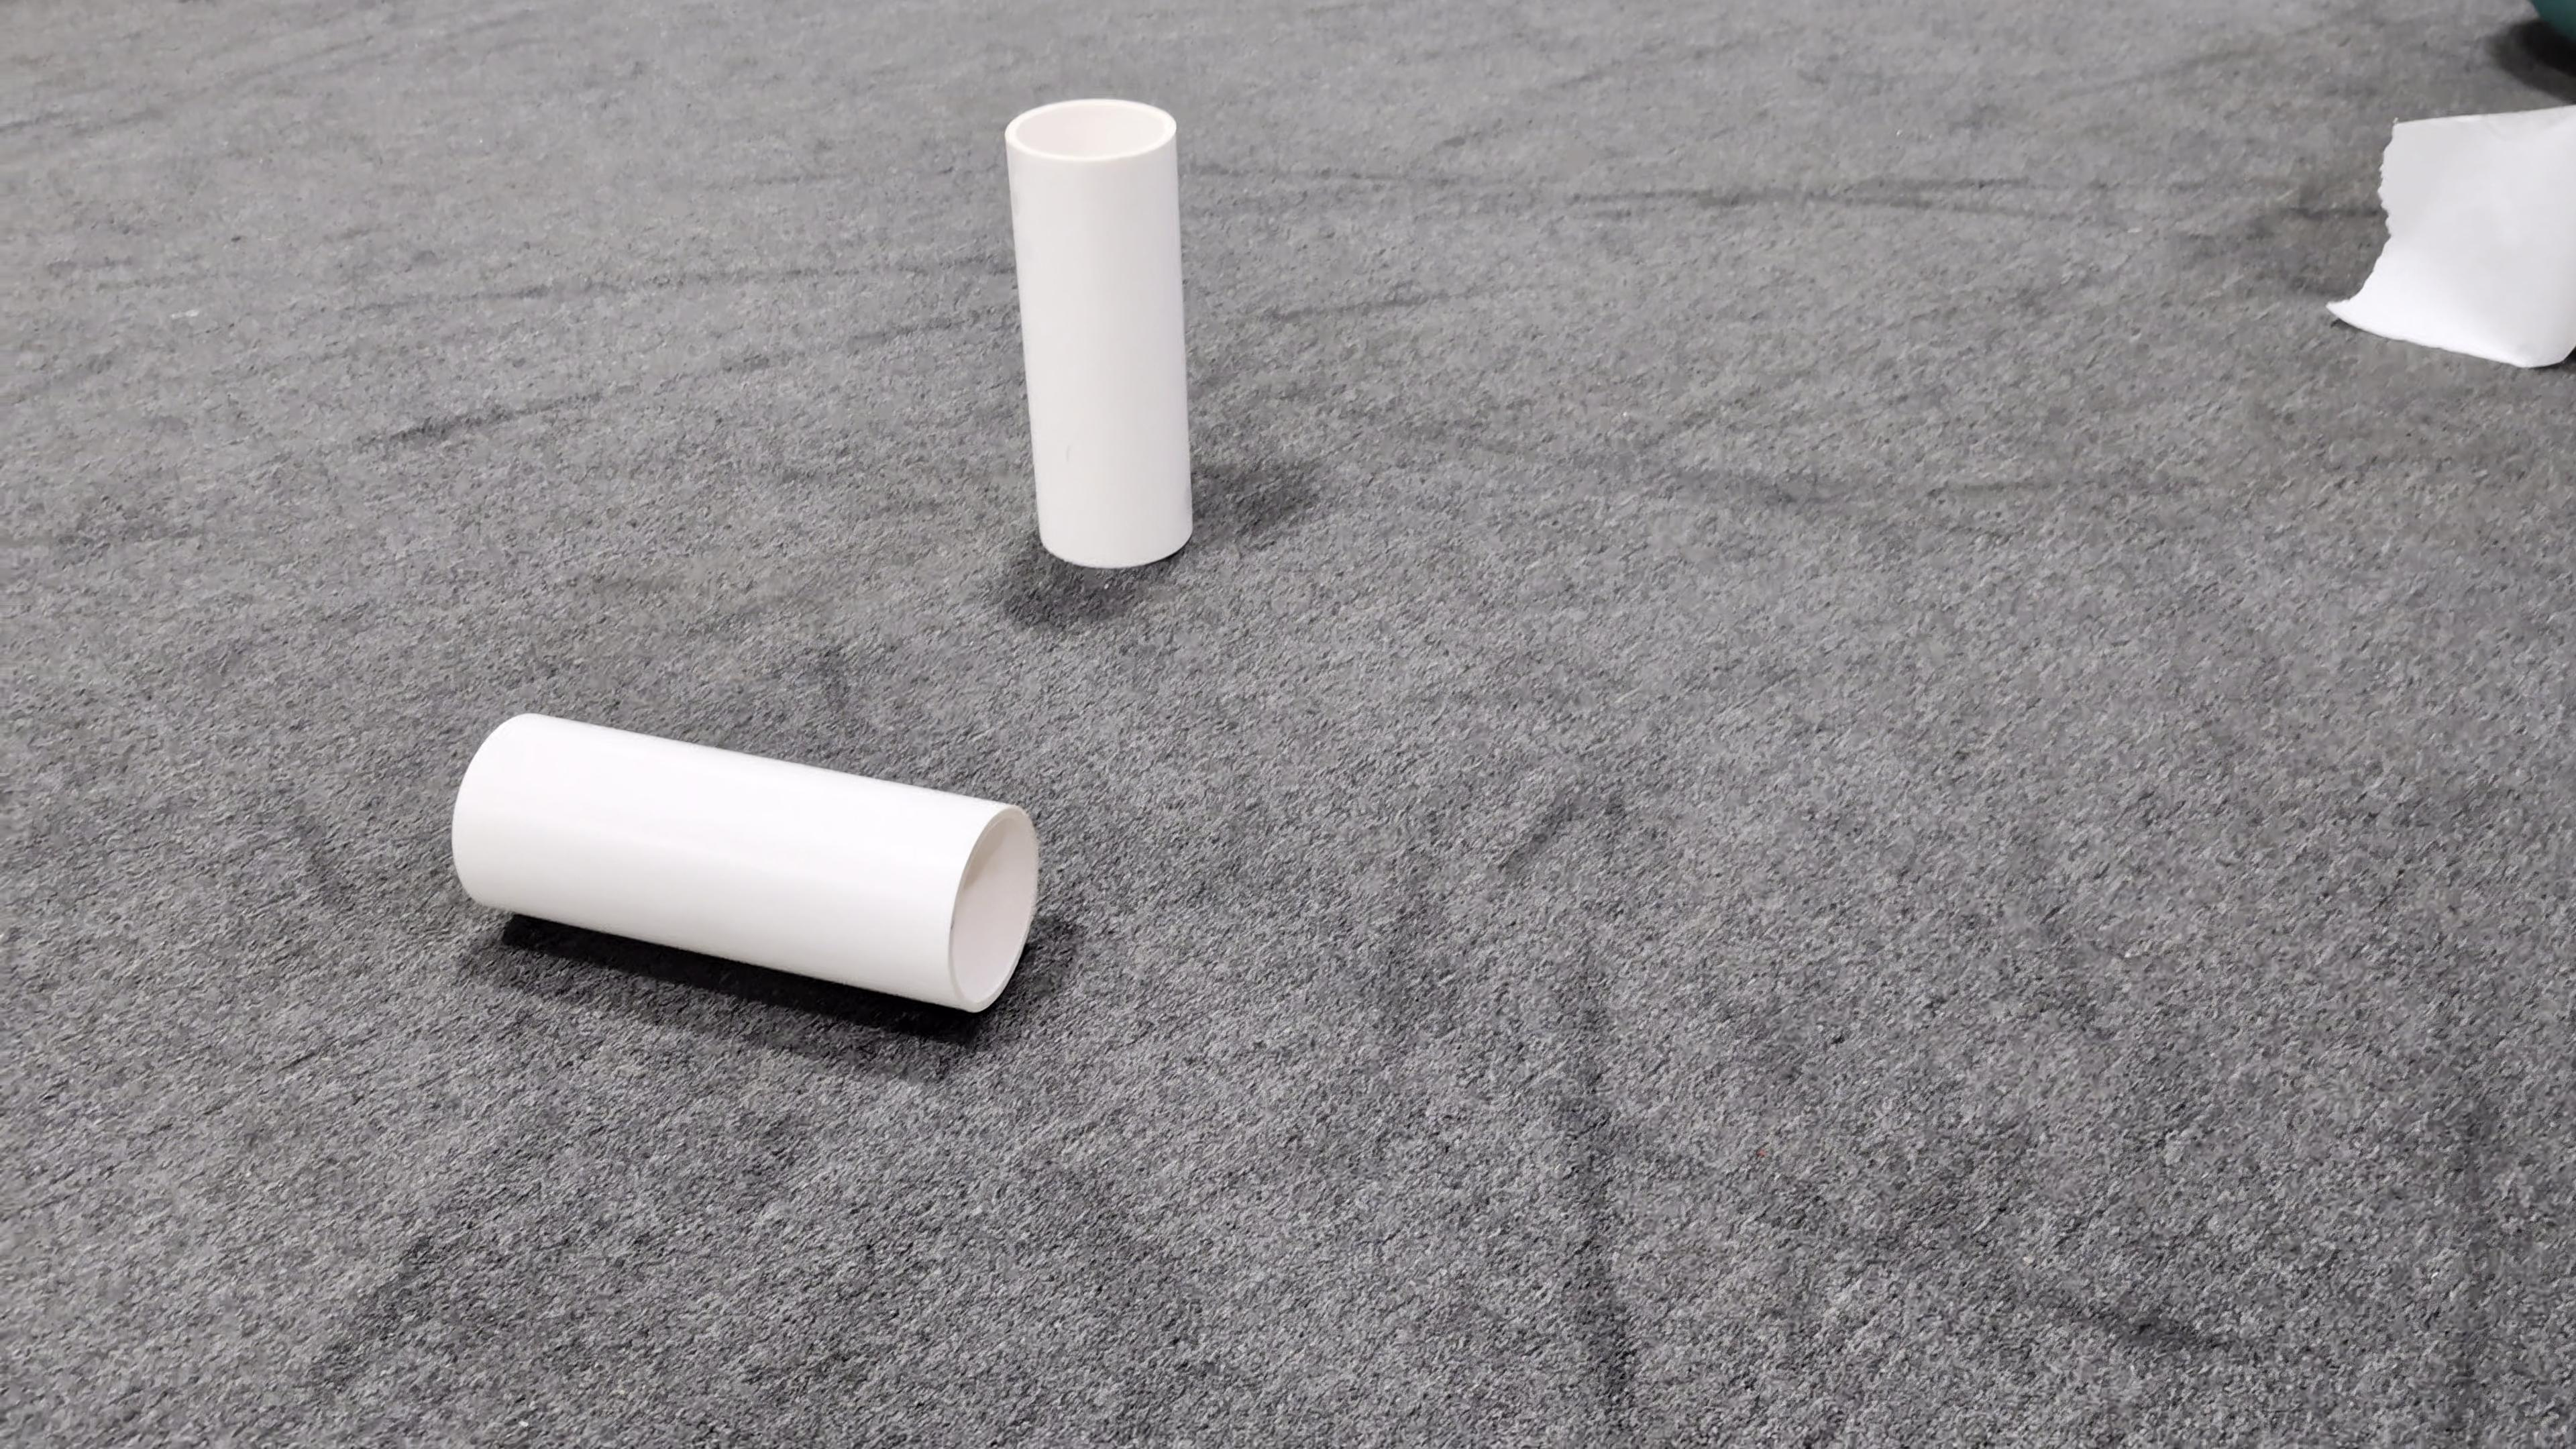coral: (451, 711, 1039, 1012), (1007, 99, 1196, 568)
